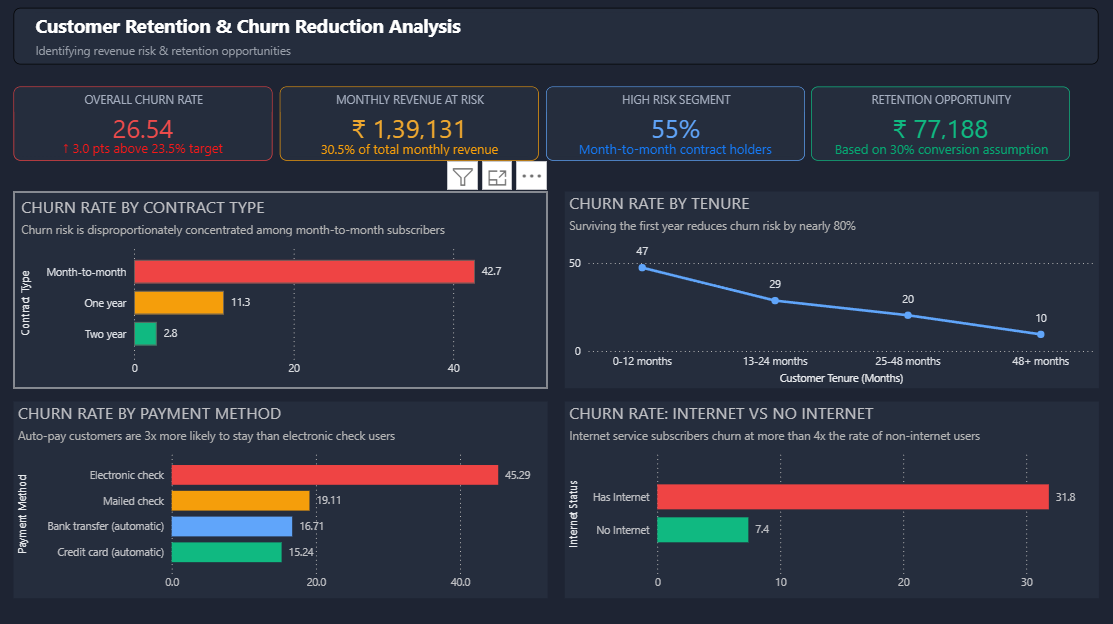

The page's visual inventory and layout, read from the dashboard file:
{"tool":"powerbi","page":{"name":"Executive summary","canvas":[1280,720],"ordinal":0},"visuals":[{"type":"textbox","box":[20,10,1240,65],"z":0},{"type":"textbox","title":"Customer Retention & Churn Reduction Analysis","box":[40,16,750,54],"z":1000},{"type":"kpi","title":"OVERALL CHURN RATE","fields":{"Indicator":["Table.Overall Churn Rate %"],"TrendLine":["Table.Value"]},"box":[20,100,296,85],"z":2000},{"type":"kpi","title":"MONTHLY REVENUE AT RISK","fields":{"Indicator":["Table.Monthly Revenue at Risk (₹)"],"TrendLine":["Table.Value"]},"box":[324,100,296,85],"z":3000},{"type":"kpi","title":"HIGH RISK SEGMENT","fields":{"TrendLine":["Table.Value"],"Indicator":["00_raw_customer_data.High Risk Segment %"]},"box":[628,100,296,85],"z":4000},{"type":"kpi","title":"RETENTION OPPORTUNITY","fields":{"TrendLine":["Table.Value"],"Indicator":["00_raw_customer_data.Retention Opportunity (₹)"]},"box":[932,100,296,85],"z":5000},{"type":"textbox","title":"↑ 3.0 pts above 23.5% target","box":[23,160,290,20],"z":6000},{"type":"textbox","title":"30.5% of total monthly revenue","box":[327,160,289,20],"z":7000},{"type":"textbox","title":"Month-to-month contract holders","box":[631,160,288,20],"z":8000},{"type":"textbox","title":"Based on 30% conversion assumption","box":[936,160,288,20],"z":9000},{"type":"clusteredBarChart","title":"CHURN RATE BY CONTRACT TYPE","fields":{"Category":["01_contract_churn.Contract"],"Y":["01_contract_churn.Churn Rate Calculated"]},"box":[20,220,610,225],"z":10000},{"type":"lineChart","title":"CHURN RATE BY TENURE","fields":{"Y":["Sum(02_tenure_churn.churn_rate)"],"Category":["02_tenure_churn.tenure_bucket"]},"box":[650,220,610,225],"z":12000},{"type":"clusteredBarChart","title":"CHURN RATE BY PAYMENT METHOD","fields":{"Category":["03_payment_churn.PaymentMethod"],"Y":["03_payment_churn.Payment Churn Rate"]},"box":[20,460,610,225],"z":14000},{"type":"clusteredBarChart","title":"CHURN RATE: INTERNET VS NO INTERNET","fields":{"Category":["04_internet_churn.internet_status"],"Y":["Sum(04_internet_churn.churn_rate)"]},"box":[650,460,610,225],"z":18000}]}

Visuals, with their boxes in screenshot pixels (x1, y1, x2, y2), scaled from the page's 1280x720 canvas onto the 1113x624 screenshot:
textbox: 17:9:1096:65
"Customer Retention & Churn Reduction Analysis" textbox: 35:14:687:61
"OVERALL CHURN RATE" kpi: 17:87:275:160
"MONTHLY REVENUE AT RISK" kpi: 282:87:539:160
"HIGH RISK SEGMENT" kpi: 546:87:803:160
"RETENTION OPPORTUNITY" kpi: 810:87:1068:160
"↑ 3.0 pts above 23.5% target" textbox: 20:139:272:156
"30.5% of total monthly revenue" textbox: 284:139:536:156
"Month-to-month contract holders" textbox: 549:139:799:156
"Based on 30% conversion assumption" textbox: 814:139:1064:156
"CHURN RATE BY CONTRACT TYPE" clusteredBarChart: 17:191:548:386
"CHURN RATE BY TENURE" lineChart: 565:191:1096:386
"CHURN RATE BY PAYMENT METHOD" clusteredBarChart: 17:399:548:594
"CHURN RATE: INTERNET VS NO INTERNET" clusteredBarChart: 565:399:1096:594
